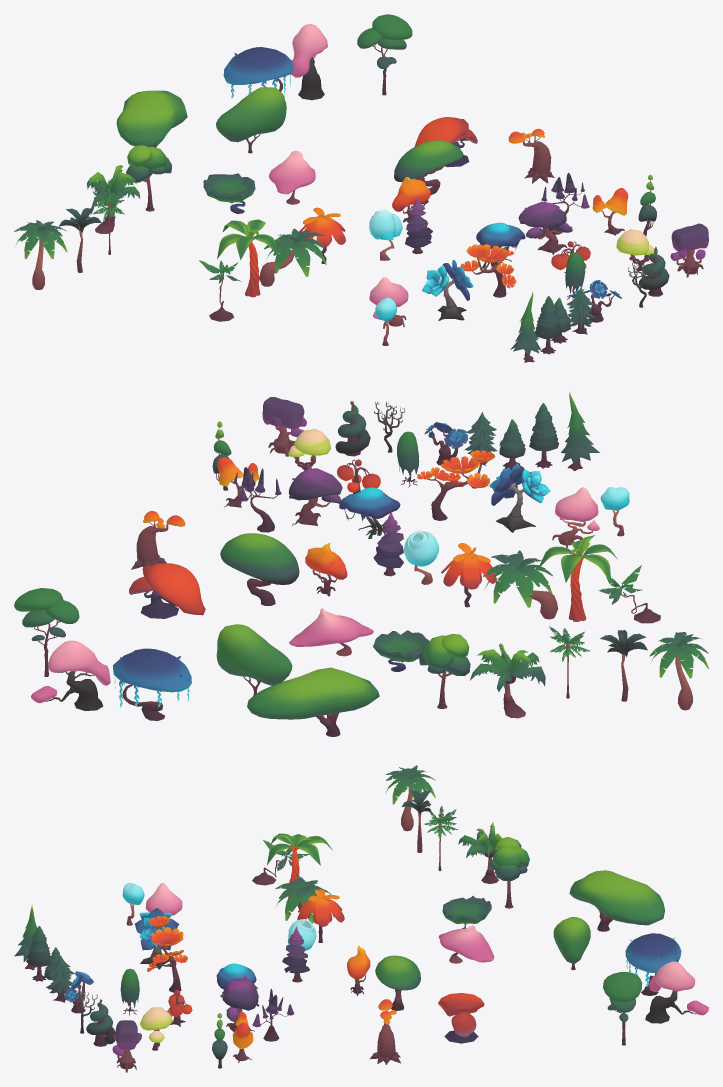
File: stylized_low_poly_trees_pack_02.glb
3 views of the same model, one above another, from view 1: azimuth 30°, elevation 25°; view 2: azimuth 150°, elevation 25°; view 3: azimuth 270°, elevation 25° (orthographic). The views are drawn at different scales.
Visible parts, largest first — view 1: Tree.033_32, Tree_39, Tree.029_28, Tree.040_41, Tree.022_21, Tree.026_25, Tree.037_35, Tree.039_38, Tree.036_37, Tree.018_17, Tree.027_26, Tree.007_6 (+26 smaller); view 2: Tree.033_32, Tree.029_28, Tree.040_41, Tree_39, Tree.023_22, Tree.022_21, Tree.026_25, Tree.037_35, Tree.019_18, Tree.039_38, Tree.018_17, Tree.041_40 (+28 smaller); view 3: Tree.033_32, Tree.022_21, Tree.029_28, Tree.023_22, Tree.040_41, Tree.037_35, Tree.032_31, Tree.009_8, Tree.041_40, Tree_39, Tree.027_26, Tree.036_37 (+27 smaller).
Boxes of the visible parts, box(x1,y1,x2,y2) form: Tree.033_32: box(116, 90, 187, 147); Tree_39: box(216, 87, 286, 153); Tree.029_28: box(223, 47, 293, 98); Tree.040_41: box(394, 140, 463, 204); Tree.022_21: box(291, 24, 327, 100); Tree.026_25: box(259, 228, 326, 286); Tree.037_35: box(357, 14, 412, 95); Tree.039_38: box(217, 219, 278, 297); Tree.036_37: box(518, 201, 572, 254); Tree.018_17: box(422, 259, 473, 320); Tree.027_26: box(14, 220, 67, 289); Tree.007_6: box(670, 223, 708, 277); Tree.033_32: box(247, 667, 379, 736); Tree.029_28: box(113, 648, 191, 720); Tree.040_41: box(220, 533, 299, 605); Tree_39: box(216, 624, 292, 695); Tree.023_22: box(129, 563, 205, 618); Tree.022_21: box(31, 640, 110, 710); Tree.026_25: box(483, 550, 558, 619); Tree.037_35: box(14, 588, 79, 676); Tree.019_18: box(470, 643, 545, 718); Tree.039_38: box(538, 535, 617, 621); Tree.018_17: box(489, 464, 550, 532); Tree.041_40: box(417, 450, 495, 520); Tree.033_32: box(569, 870, 664, 931); Tree.022_21: box(645, 961, 708, 1023); Tree.029_28: box(625, 933, 681, 995); Tree.023_22: box(438, 993, 484, 1043); Tree.040_41: box(375, 955, 420, 1010); Tree.037_35: box(603, 972, 642, 1045); Tree.032_31: box(489, 837, 529, 908); Tree.009_8: box(438, 925, 494, 963); Tree.041_40: box(147, 916, 187, 992); Tree_39: box(553, 917, 590, 970); Tree.027_26: box(385, 765, 435, 831); Tree.036_37: box(221, 976, 259, 1032).
Bounding box in the file's own units: 33.36 × 4.52 × 38.74.
Materials: 1 (1 with a texture image).
